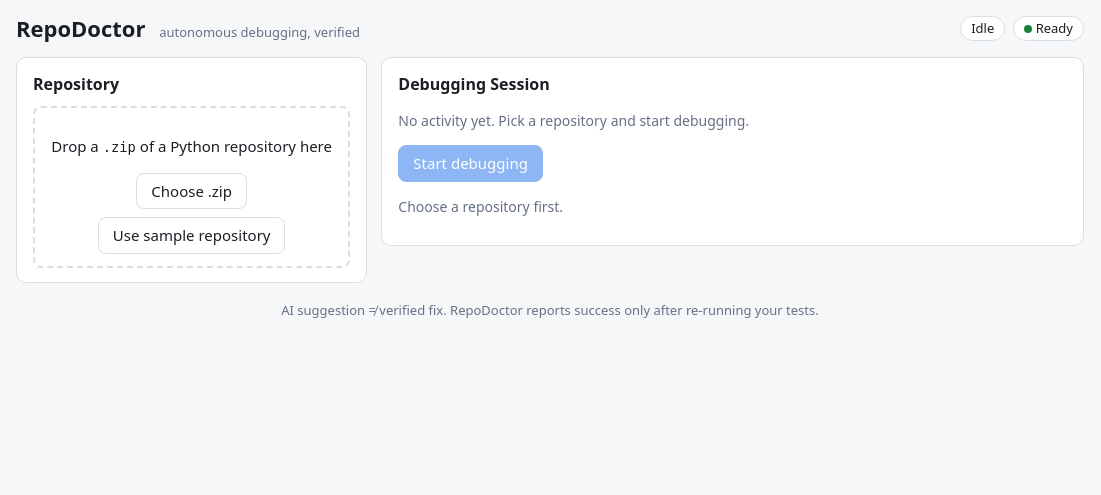
Test: choosing a repository › shows an uploading state while the sample is prepared, then the file tree
Later steps or results of the test are not shown.
Click the button "Use sample repository" at (192,235), box [98,217,285,254]
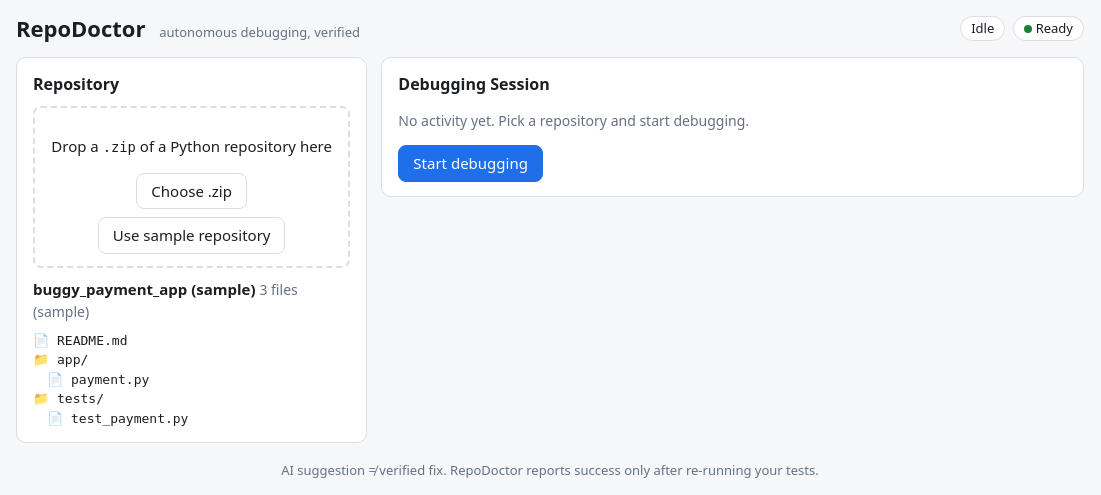
Check: the list item "app/" is shown, box [33,352,88,367]
Check: the list item "payment.py" is shown, box [71,372,149,387]
Check: the text "buggy_payment_app (sample)" is shown, box [33,279,256,299]
